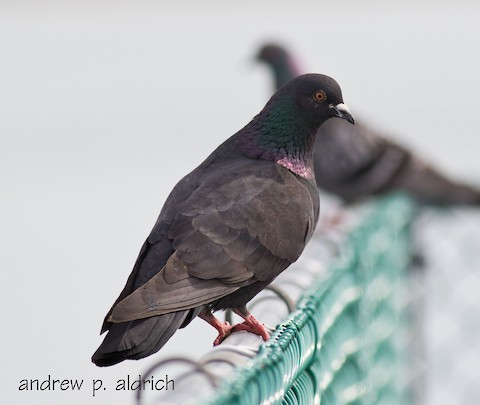pigeon: (86, 71, 362, 370), (232, 33, 480, 218)
